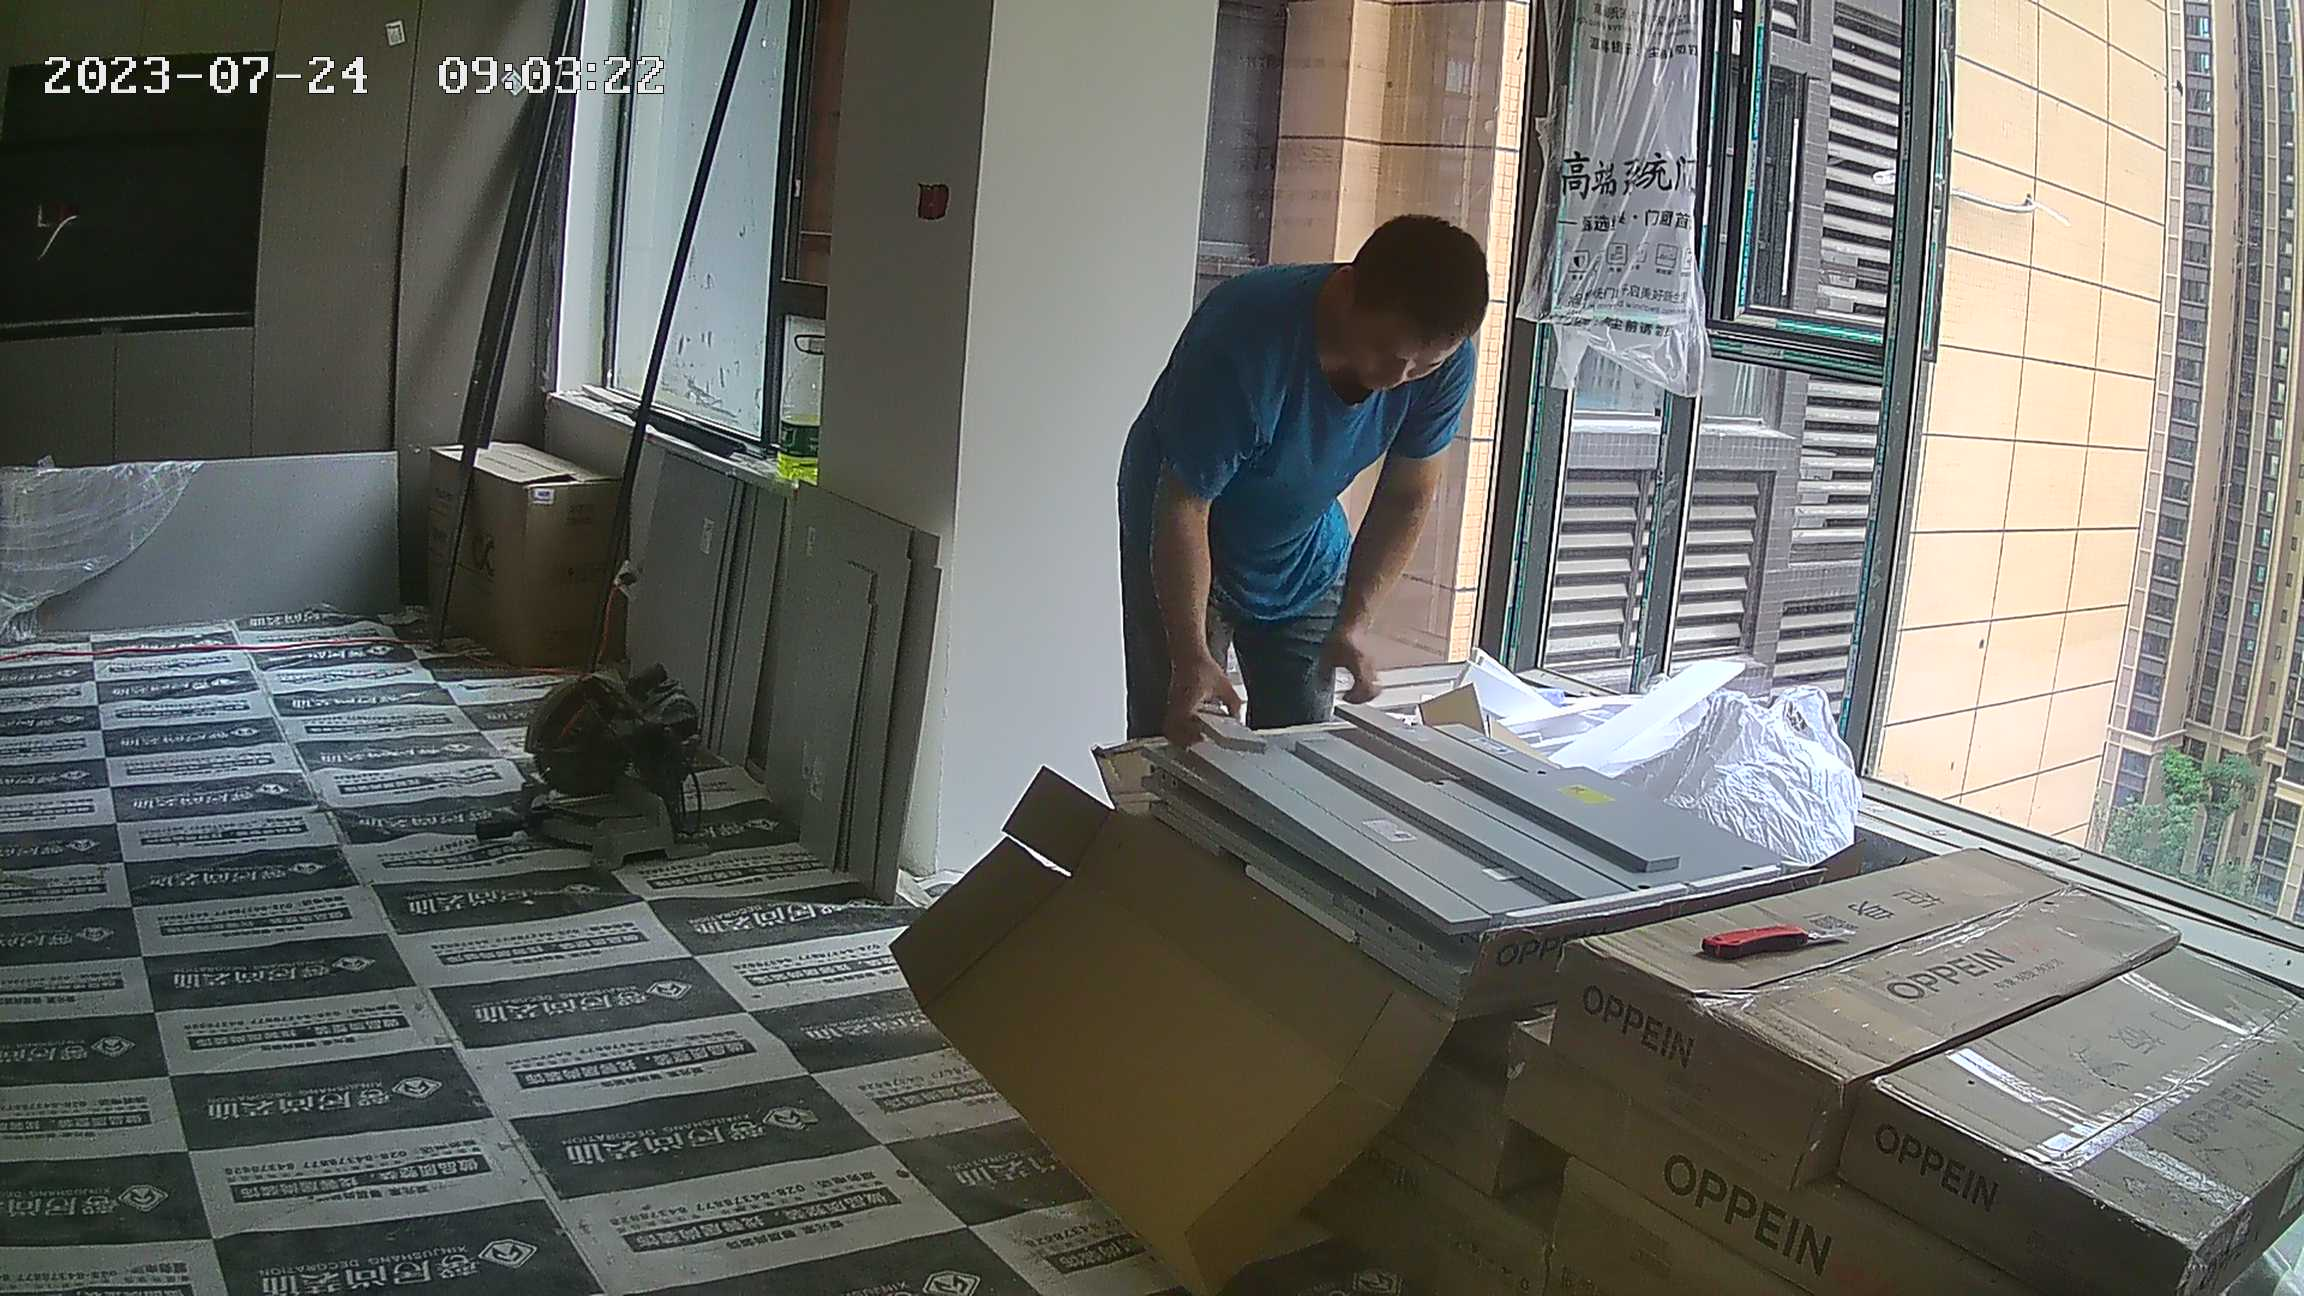people: (1115, 211, 1483, 728)
window: (1528, 6, 2304, 896), (575, 1, 832, 456)
